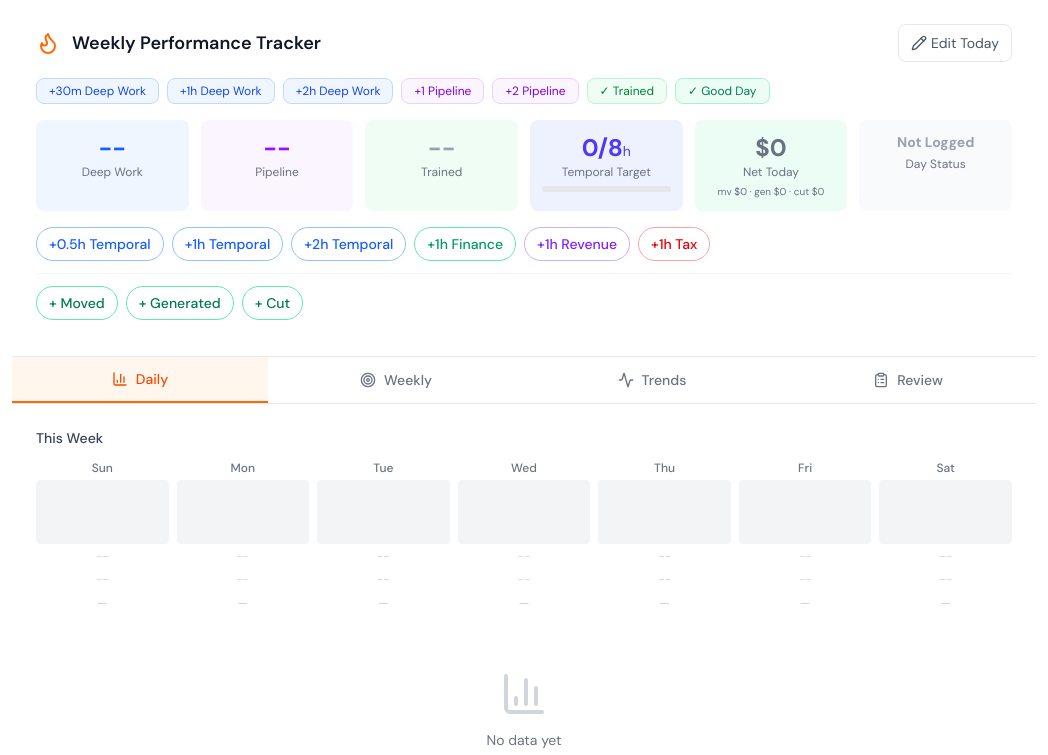
Test: WeeklyPerformanceTracker - Inline Temporal Target Edit › cancels edit without saving when Escape is pressed
Click the button with aria-label "Edit Temporal Target".
click(606, 162)  # box x1=542 y1=132 x2=671 y2=192
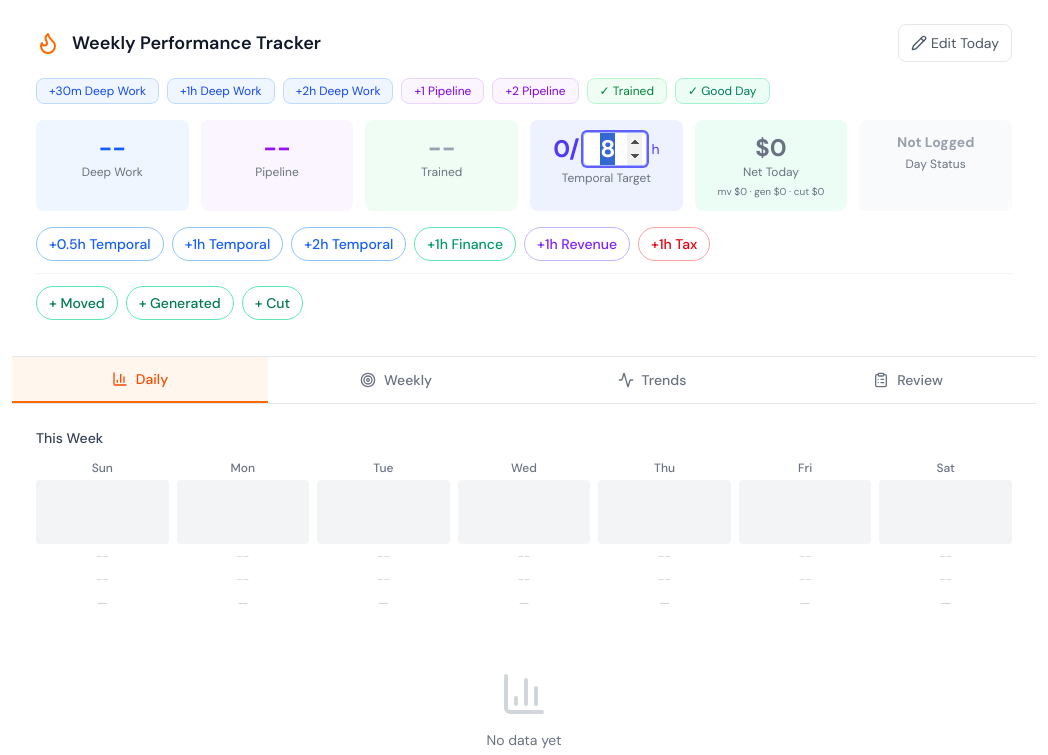
Replace the text in the number field named "Temporal Target" with "99" at (615, 149), box x1=583 y1=132 x2=647 y2=166
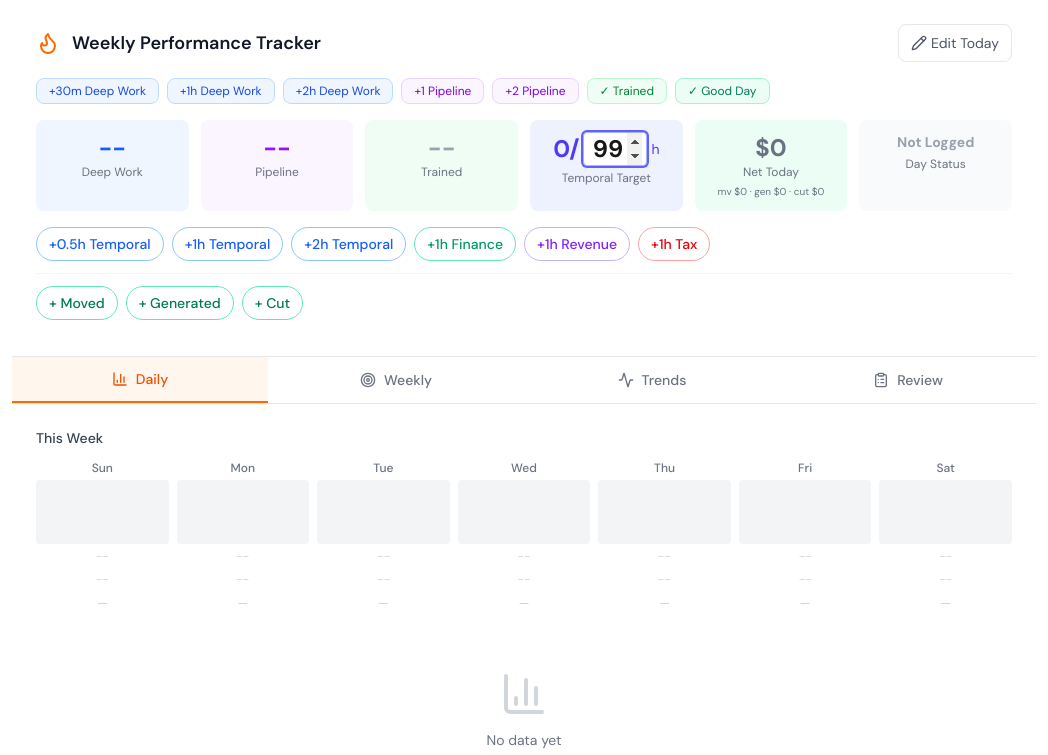
Press Escape
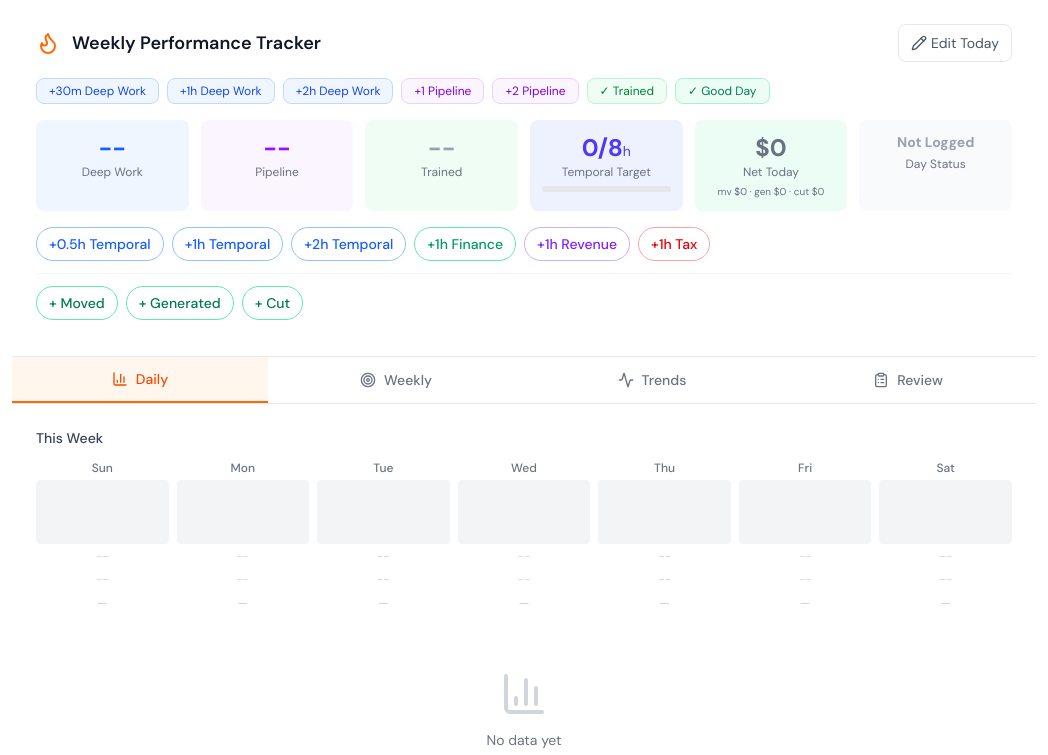
Now the button with aria-label "Edit Temporal Target" is shown, box x1=542 y1=132 x2=671 y2=192
